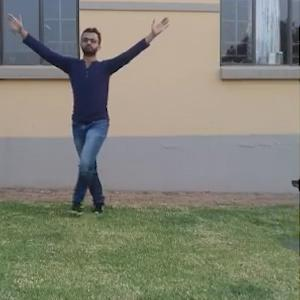takeoff: (16, 22, 158, 196)
